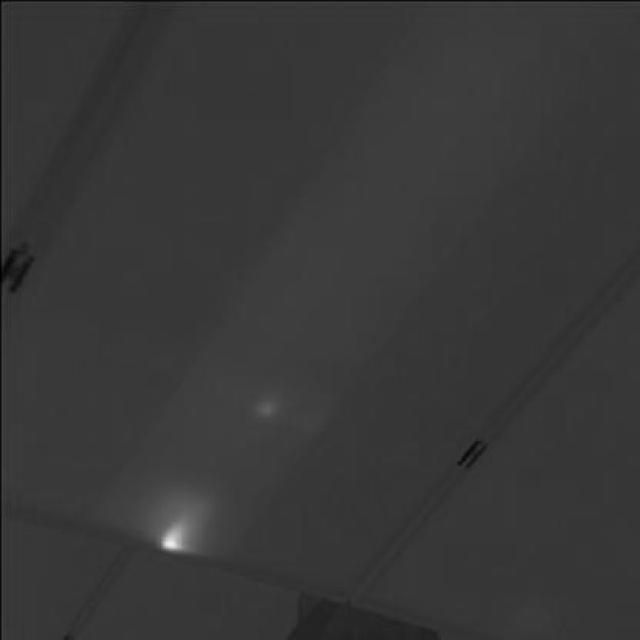hotspot: (148, 499, 200, 555)
